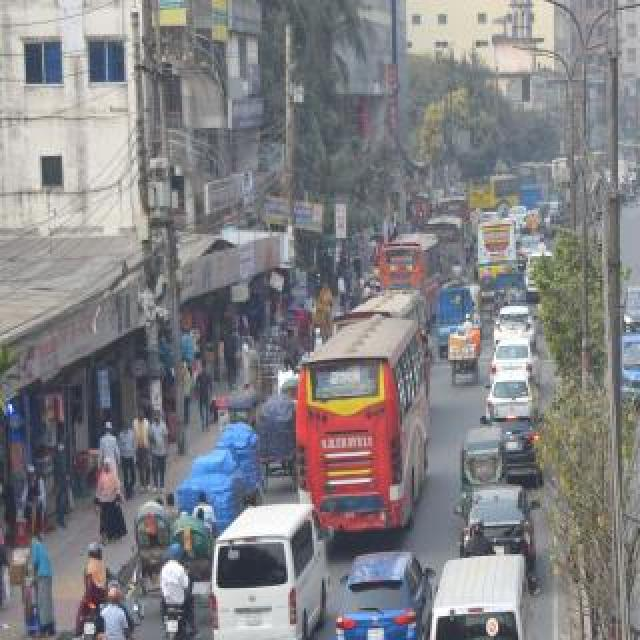bus: (283, 283, 437, 551), (316, 267, 448, 401), (359, 192, 459, 324), (421, 196, 481, 292), (541, 138, 593, 214), (511, 143, 563, 207), (426, 179, 476, 237), (469, 164, 523, 212)
car: (324, 510, 448, 640), (428, 465, 564, 583), (476, 376, 576, 508), (480, 318, 564, 406), (226, 604, 414, 640), (475, 349, 551, 429), (522, 237, 580, 305), (483, 301, 557, 353), (612, 254, 640, 360), (519, 215, 553, 291), (465, 194, 515, 240), (539, 177, 583, 227), (506, 192, 540, 230)
motorbike: (56, 504, 130, 640), (142, 506, 206, 640), (98, 546, 164, 640)
van: (194, 488, 336, 640), (402, 514, 564, 640), (422, 259, 474, 369), (481, 249, 539, 341), (608, 308, 640, 434)
